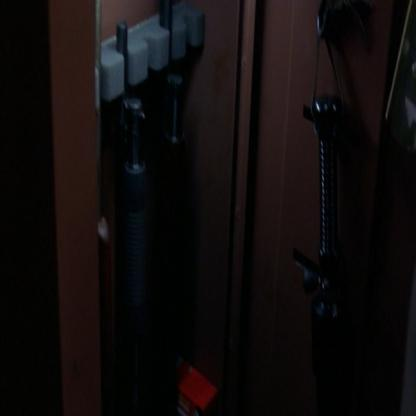Guns: (103, 0, 198, 415)
